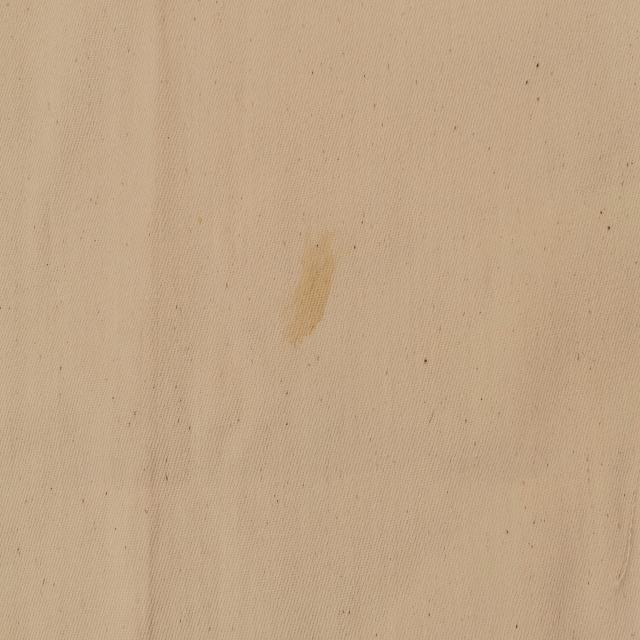taaaches: (271, 224, 344, 355)
